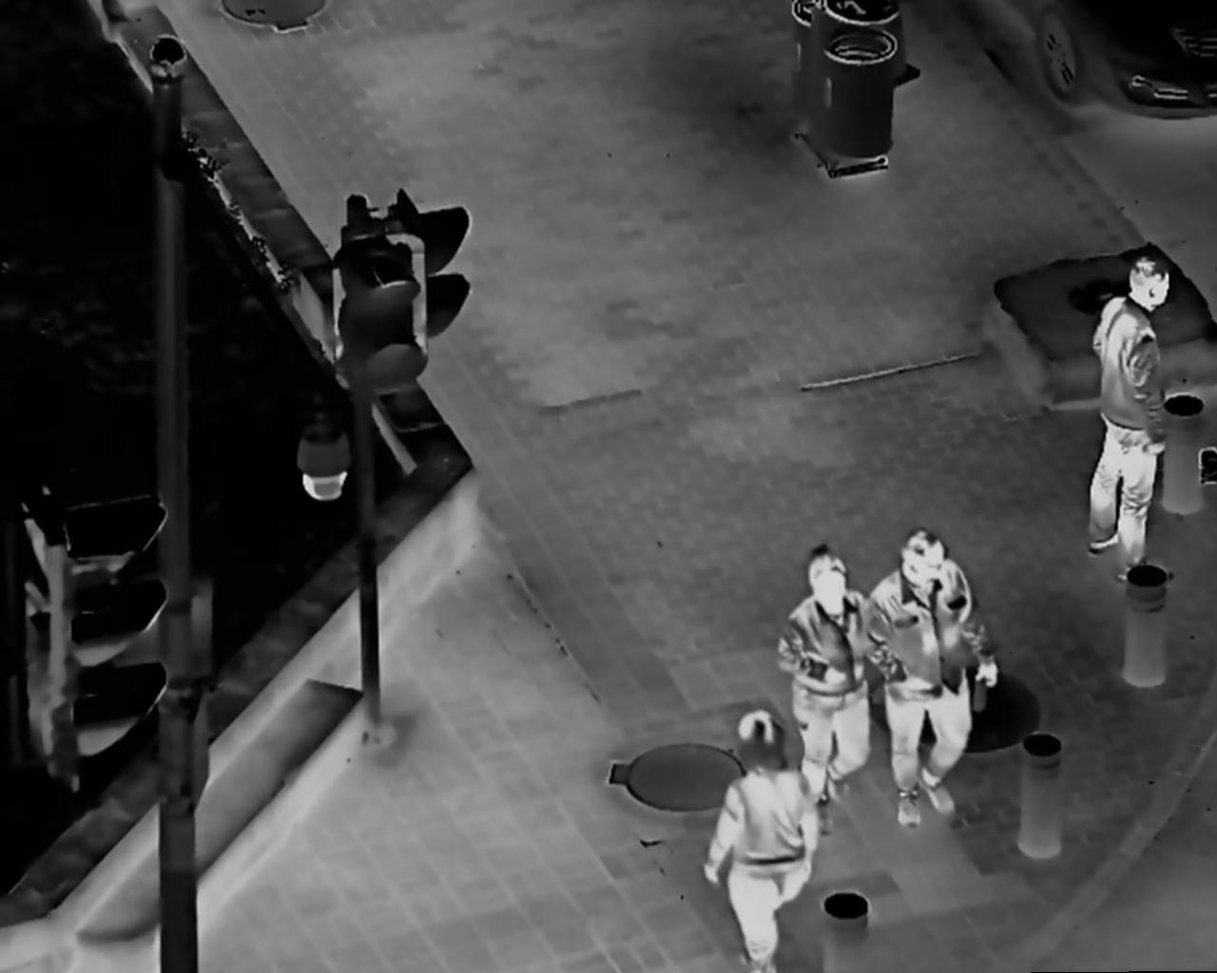person: (865, 525, 1004, 833), (695, 703, 824, 973), (1085, 247, 1180, 600), (778, 544, 889, 839)
